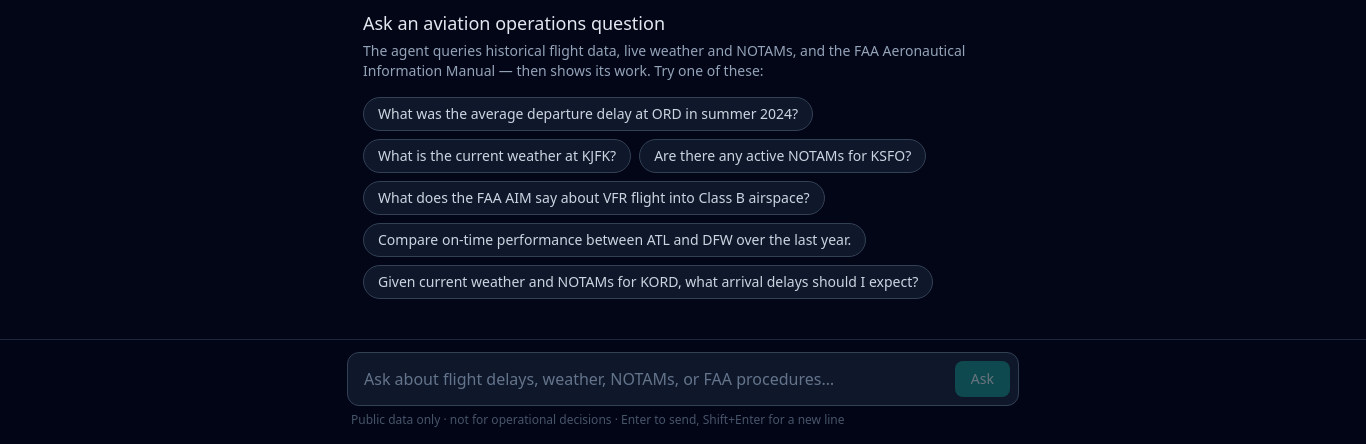
Scenario: ChatSurface › prefills the input and focuses the textarea when a sample is picked
The width and height of the screenshot is (1366, 444).
Click the button "What was the average departure delay at ORD in summer 2024?" at (588, 114), box [363,97,813,131]
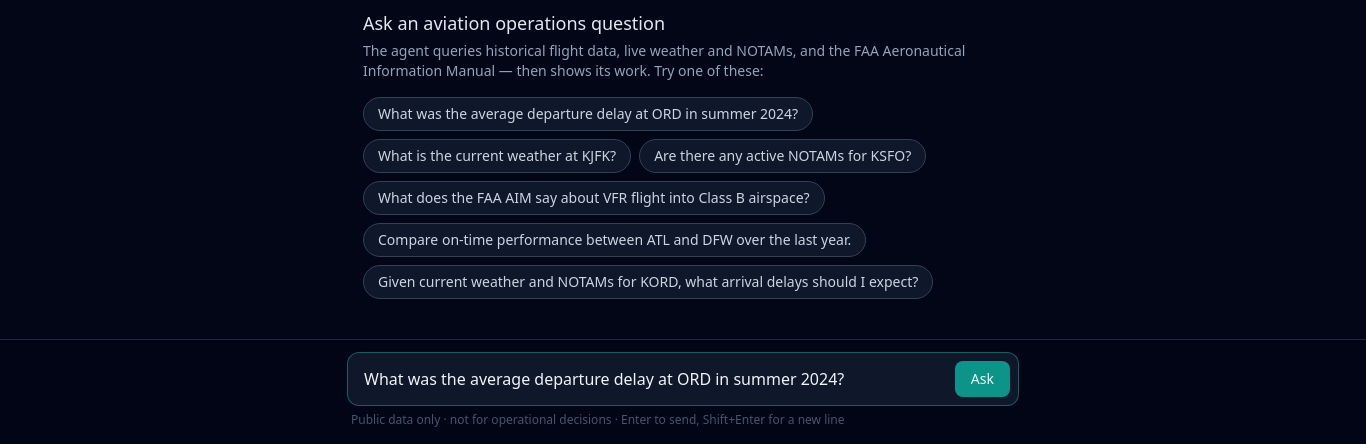
Result: the text box named "ask an aviation" holds "What was the average departure delay at ORD in summer 2024?" at [356,361,947,397]
